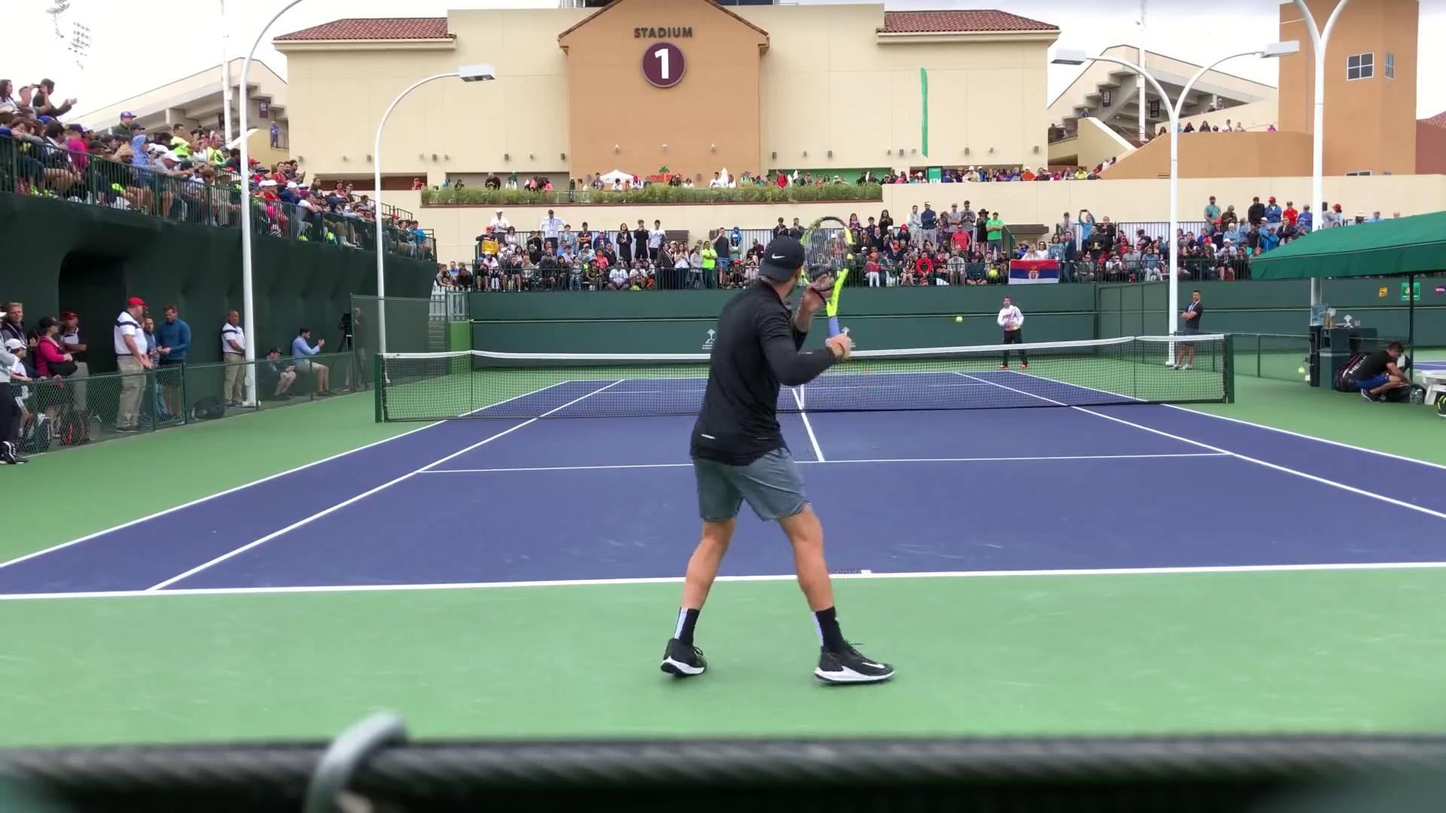ball: (954, 315, 964, 324)
